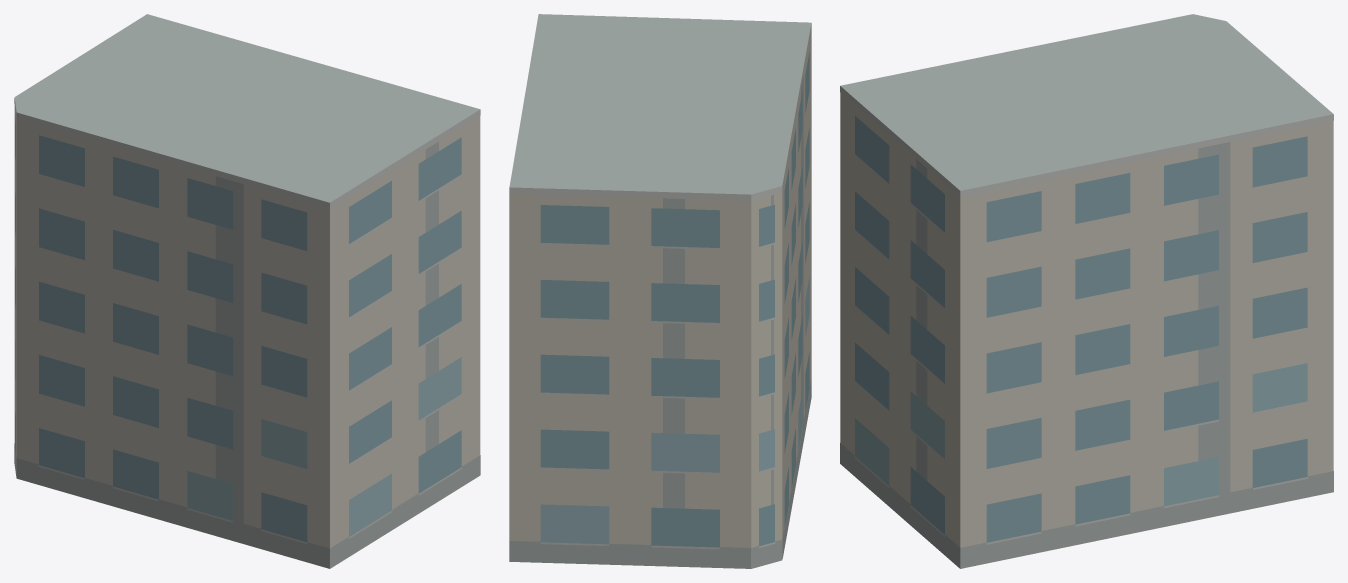
Rendered from survey-upis-32822732.glb.
The picture shows the model from 3 angles, left to right: view 1: azimuth 30°, elevation 25°; view 2: azimuth 150°, elevation 25°; view 3: azimuth 270°, elevation 25°; orthographic projection. The views are drawn at different scales.
Visible parts, largest first — view 1: survey-upis-32822732.tmp; view 2: survey-upis-32822732.tmp; view 3: survey-upis-32822732.tmp.
Part boxes in pixels (left/top/right/bottom): survey-upis-32822732.tmp: left=14, top=14, right=480, bottom=568; survey-upis-32822732.tmp: left=509, top=14, right=811, bottom=568; survey-upis-32822732.tmp: left=840, top=14, right=1333, bottom=568.
Size of the model in its own units: 14.21 by 14.15 by 16.76.
